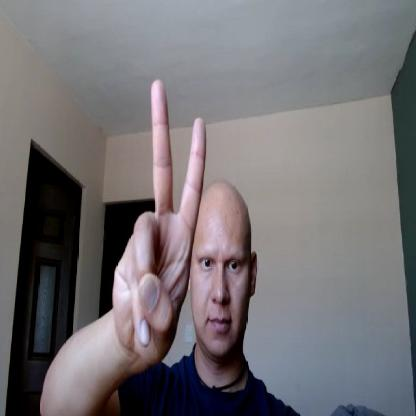V: (112, 76, 208, 364)
